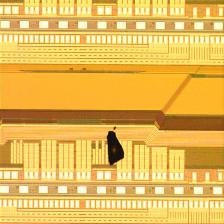PARTICLE: (106, 125, 128, 168)
